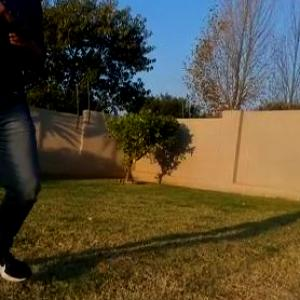follow: (0, 0, 56, 283)
